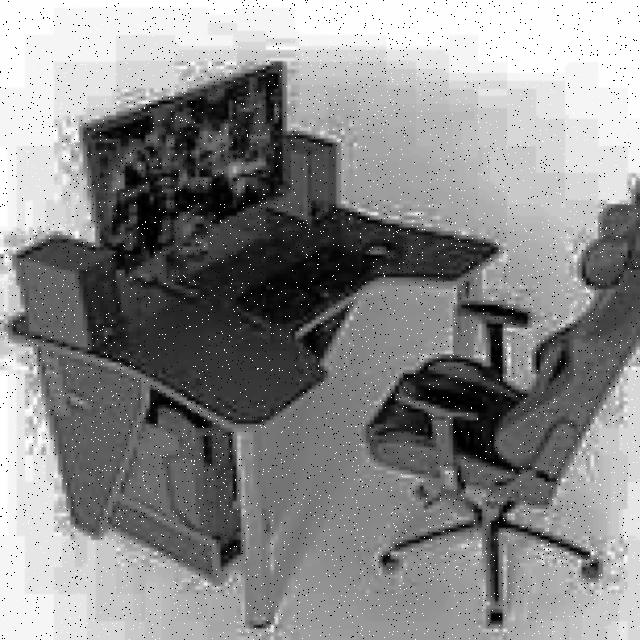book: (361, 169, 640, 624)
table: (0, 196, 499, 624)
